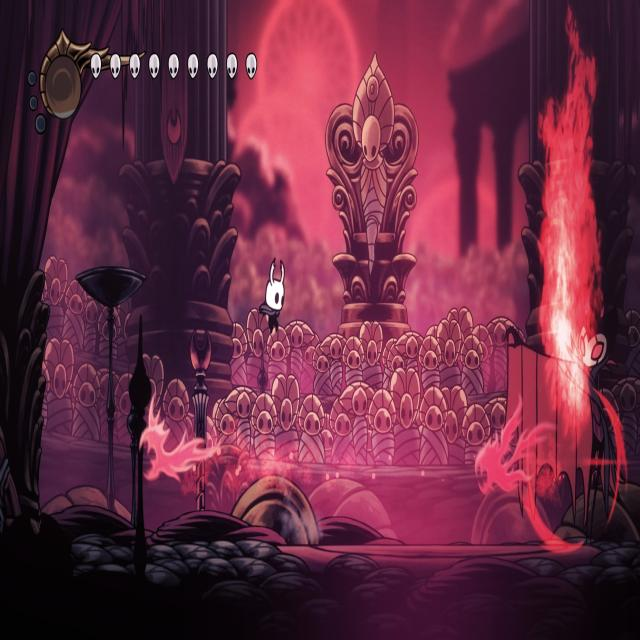Fire Bat: (139, 378, 218, 482), (474, 392, 546, 497)
Open Cloak: (504, 304, 615, 546)
Player: (257, 252, 290, 340)
